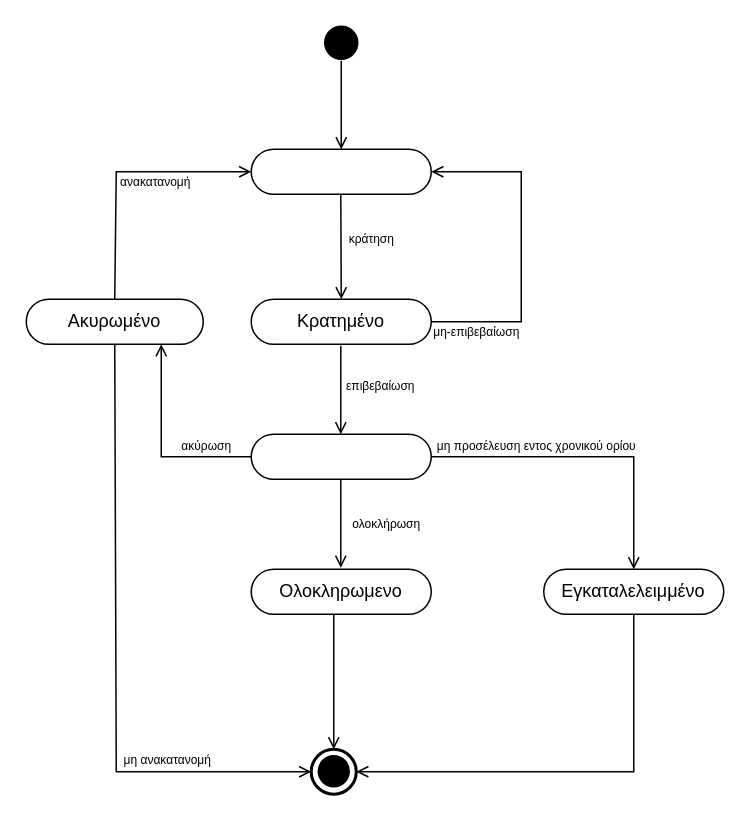
This 750x822 diagram has some shape labels left out. Each missing label, with the centre of its shape:
Διαθέσιμο: the point at 340,171
Επιβεβαιωμένο: the point at 340,456
